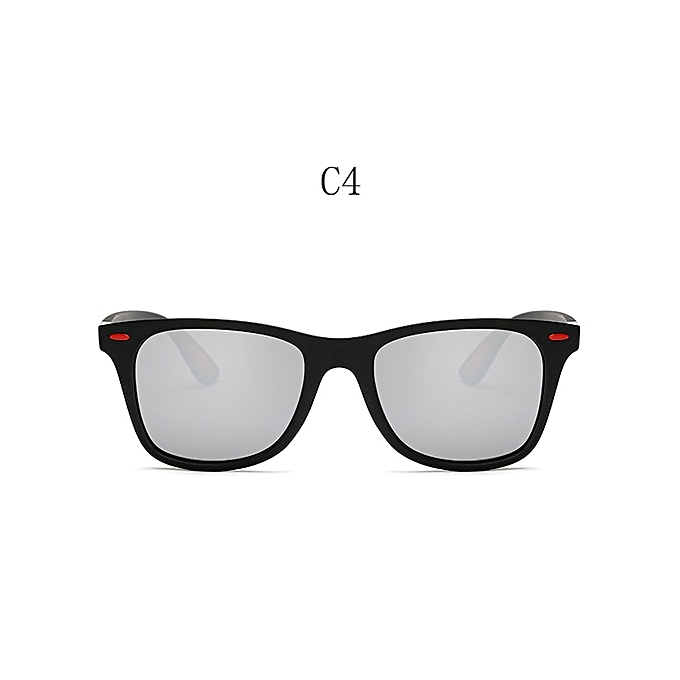sunglasses: (82, 311, 585, 488)
